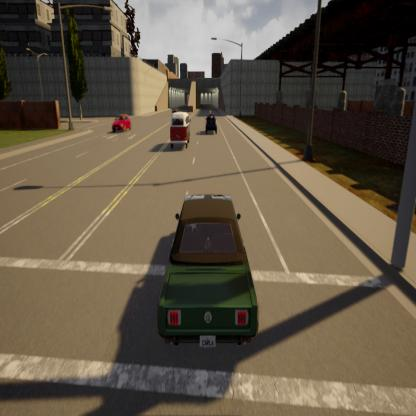Cars: (158, 193, 259, 350), (170, 109, 191, 151), (113, 112, 132, 132), (204, 113, 219, 134)
